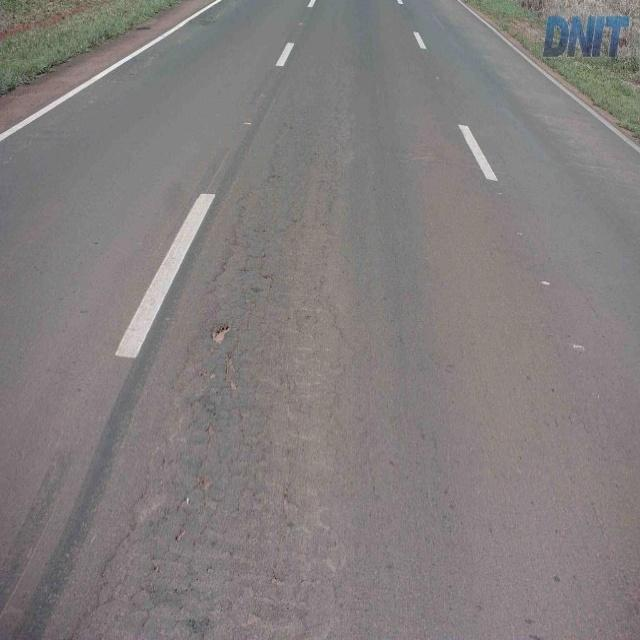pothole: (206, 314, 235, 348)
